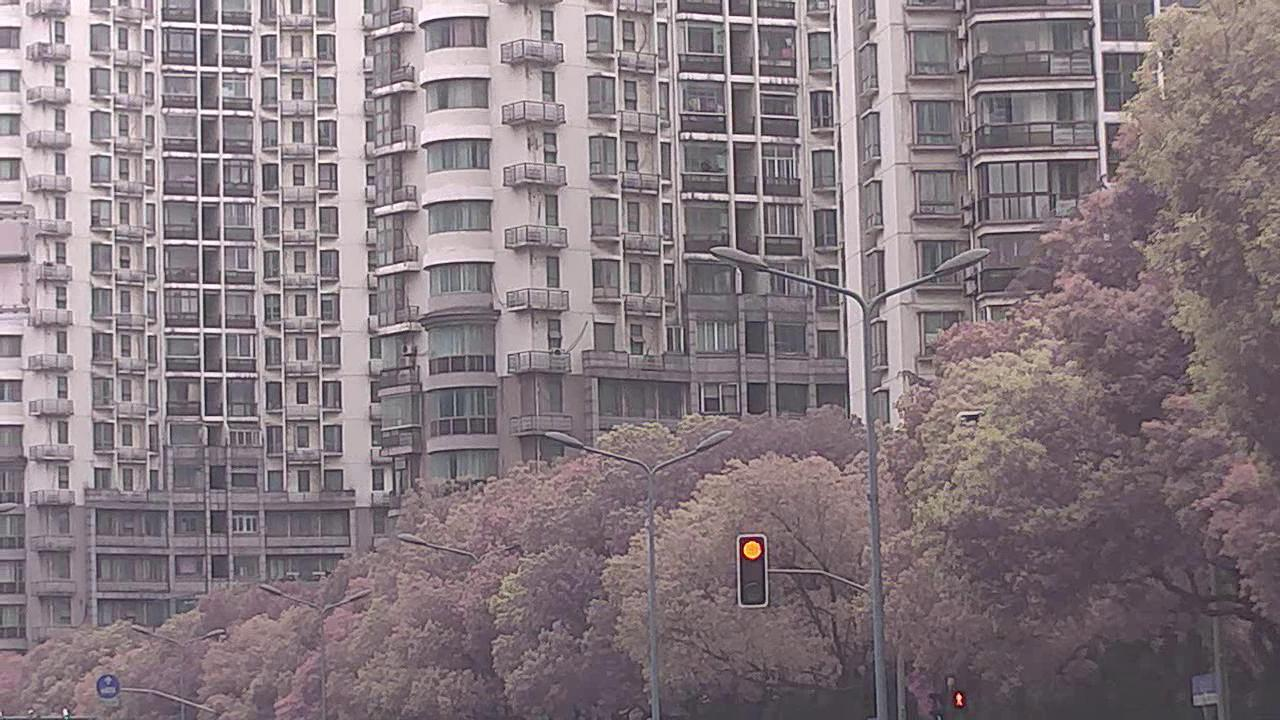traffic_light: (737, 533, 772, 609)
